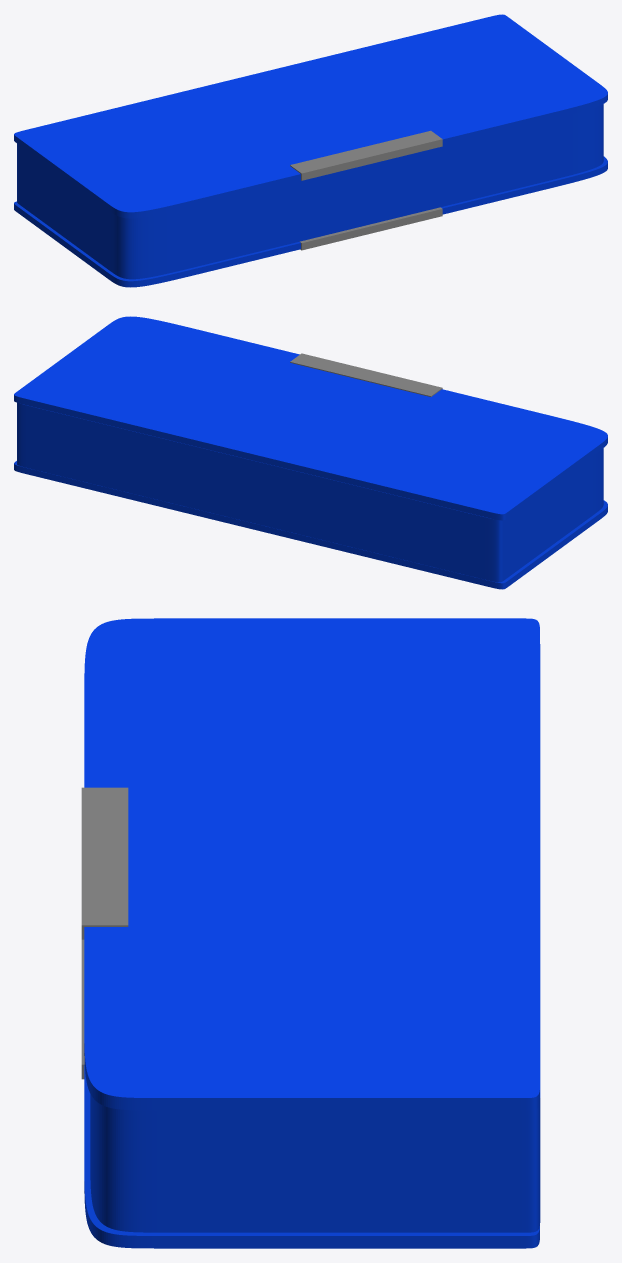
The picture shows the model from 3 angles, top to bottom: view 1: azimuth 30°, elevation 25°; view 2: azimuth 150°, elevation 25°; view 3: azimuth 270°, elevation 25°; orthographic projection. The views are drawn at different scales.
Visible parts, largest first — view 1: Cube.001, Cube, Cube.002, 立方体, 立方体.001; view 2: Cube.001, Cube, Cube.002, 立方体; view 3: Cube.001, Cube, Cube.002, 立方体.
Part boxes in pixels (x1=…): Cube.001: x1=14, y1=14, x2=607, y2=218; Cube: x1=17, y1=104, x2=603, y2=279; Cube.002: x1=14, y1=156, x2=607, y2=287; 立方体: x1=290, y1=130, x2=442, y2=180; 立方体.001: x1=299, y1=207, x2=442, y2=250; Cube.001: x1=14, y1=316, x2=607, y2=520; Cube: x1=17, y1=402, x2=603, y2=582; Cube.002: x1=14, y1=461, x2=607, y2=589; 立方体: x1=290, y1=353, x2=442, y2=396; Cube.001: x1=84, y1=618, x2=539, y2=1110; Cube: x1=90, y1=644, x2=540, y2=1232; Cube.002: x1=84, y1=1065, x2=539, y2=1248; 立方体: x1=81, y1=787, x2=128, y2=939.
Size of the model in its own units: 494 by 73.97 by 200.
